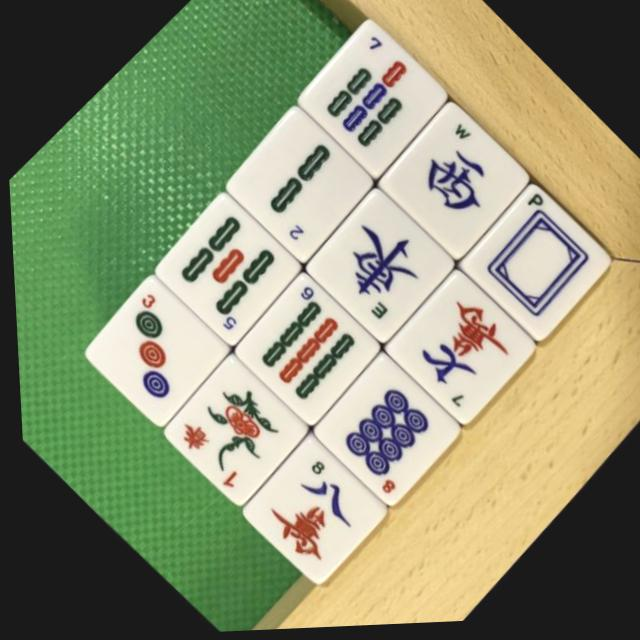bs1: (146, 353, 312, 518)
hdw: (446, 187, 621, 361)
hwe: (292, 187, 463, 358)
hww: (370, 100, 544, 273)
sb2: (211, 104, 381, 275)
sb5: (141, 188, 308, 354)
sb7: (287, 20, 459, 191)
sb9: (219, 268, 388, 436)
sc7: (369, 266, 541, 439)
sc8: (223, 429, 389, 596)
sd3: (67, 273, 231, 435)
sd8: (301, 355, 462, 515)
